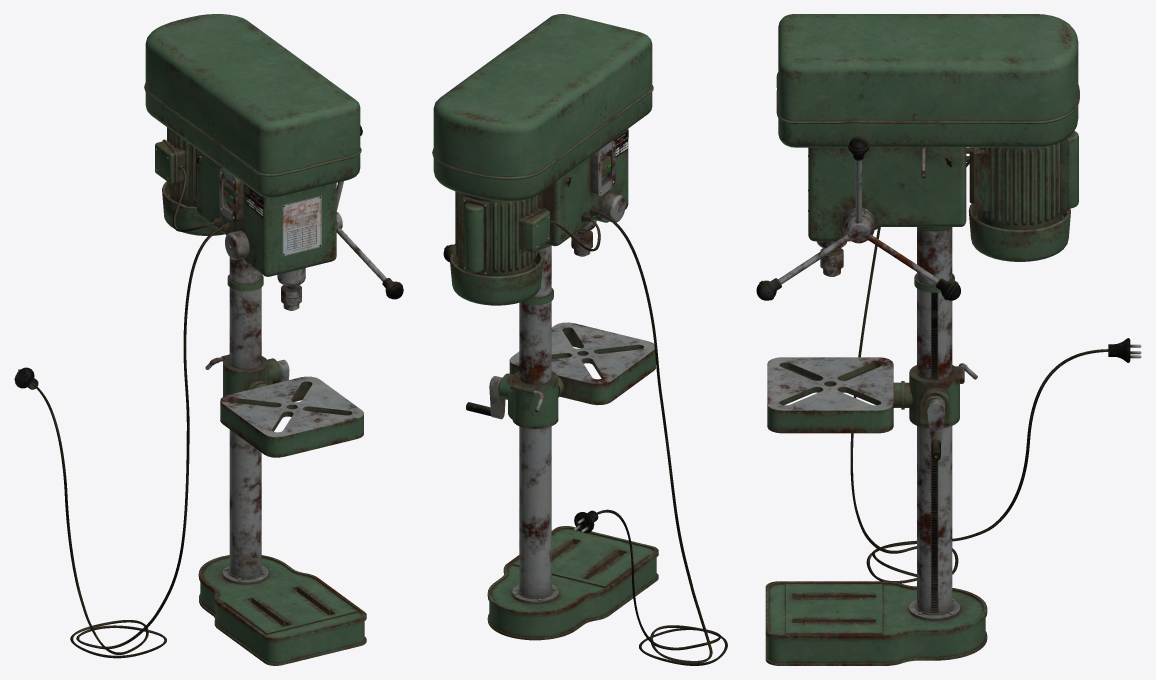
The model's file is old_drill_press.gltf.
The picture shows the model from 3 angles, left to right: view 1: azimuth 30°, elevation 25°; view 2: azimuth 150°, elevation 25°; view 3: azimuth 270°, elevation 25°; orthographic projection. The views are drawn at different scales.
Parts seen in each view (by area): view 1: old_drill_press, old_drill_press_cable; view 2: old_drill_press, old_drill_press_cable; view 3: old_drill_press, old_drill_press_cable.
Boxes of the visible parts, x1,y1,x2,y2 form: old_drill_press: [144, 14, 403, 665]; old_drill_press_cable: [14, 167, 222, 658]; old_drill_press: [432, 14, 658, 640]; old_drill_press_cable: [550, 211, 727, 665]; old_drill_press: [756, 14, 1079, 665]; old_drill_press_cable: [850, 162, 1141, 583].
Size of the model in its own units: 0.5272 by 1.05 by 0.6095.
1 material, 1 textured.
